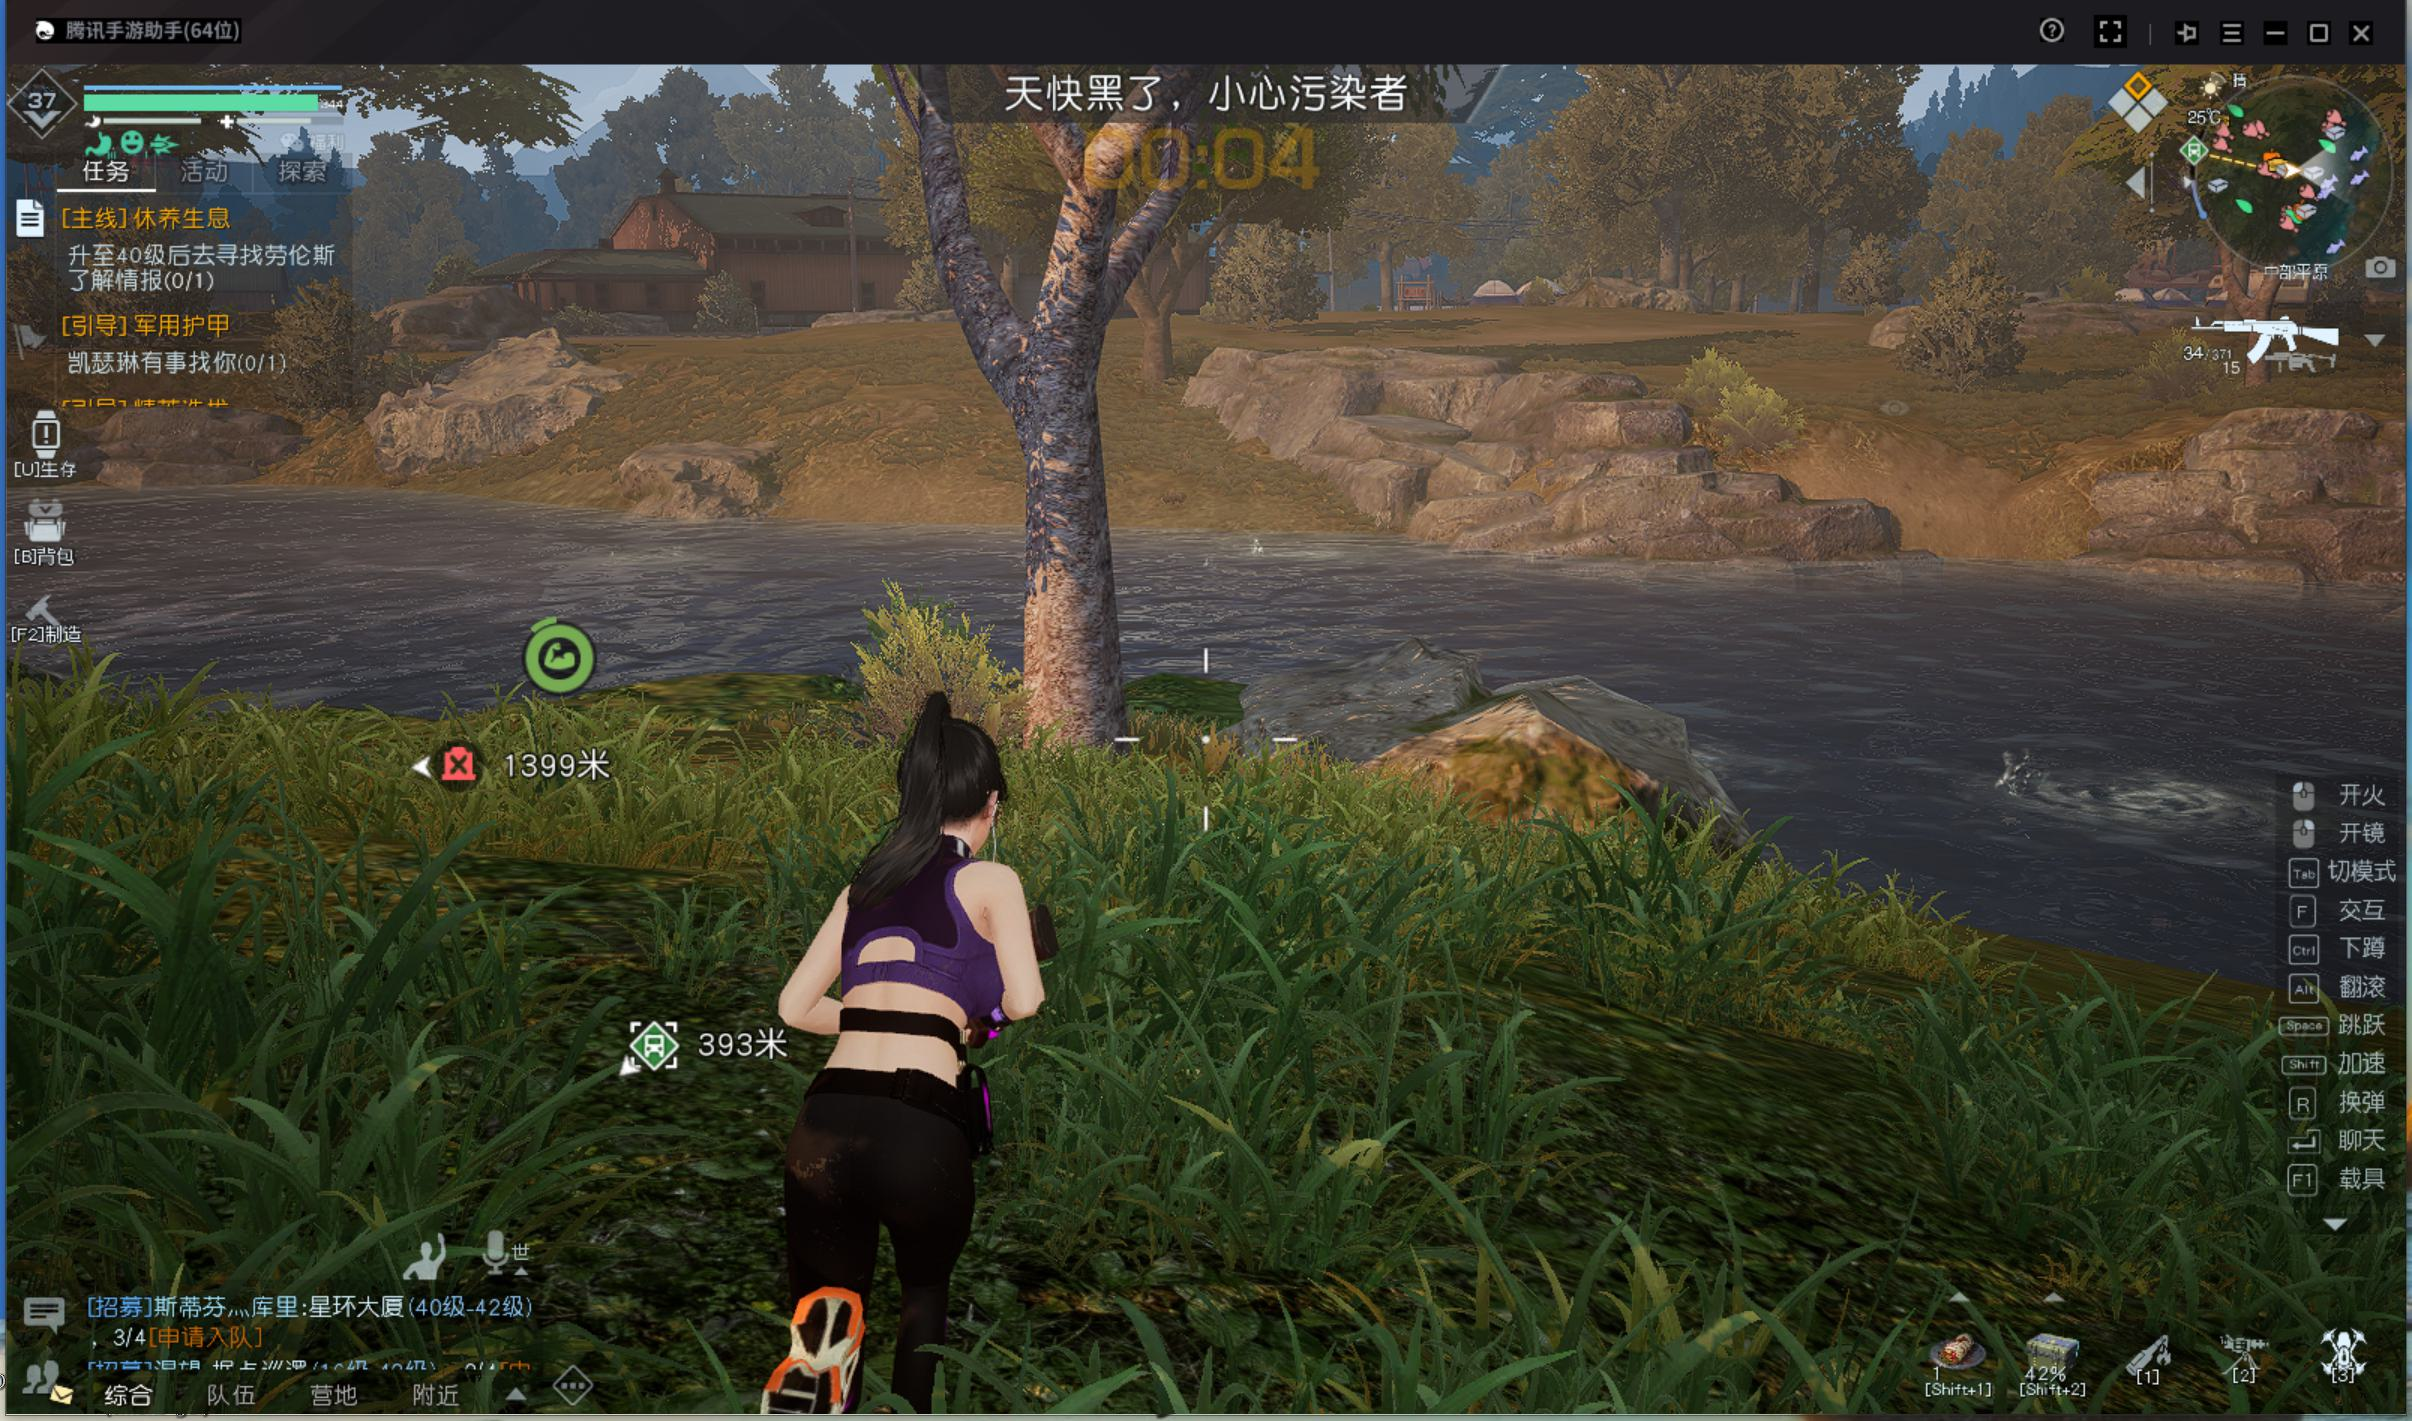tree: (995, 391, 1160, 778)
